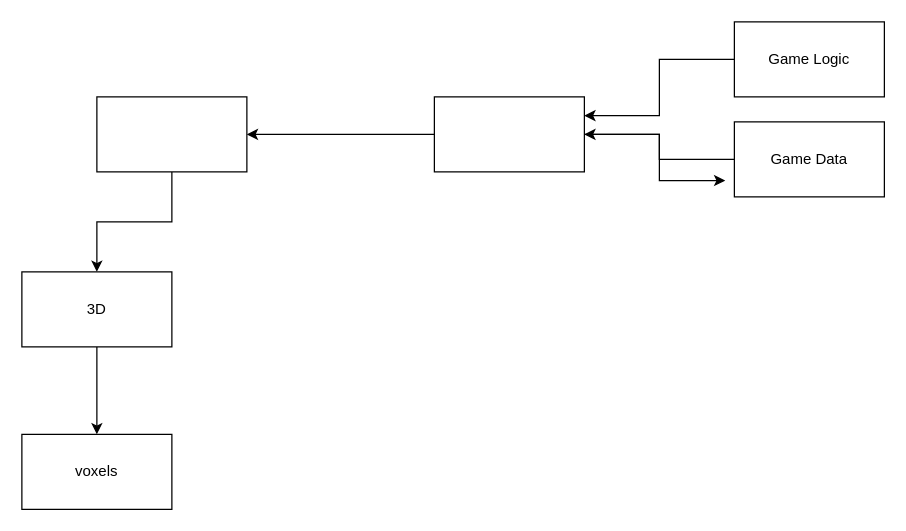
Some shapes in this 906 by 531 pixel diagram are drawn without their labels. Each missing label, with the centre of its shape:
Data: the point at 508,134
Graphics: the point at 171,134
